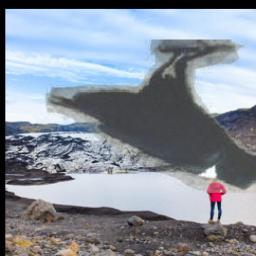Crow: (45, 41, 256, 194)
